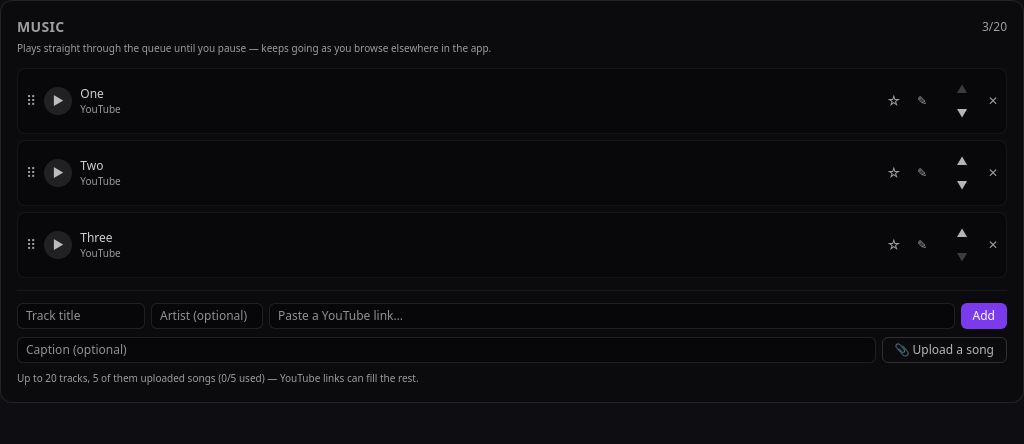
Test: MusicPlayer: rearranging the playlist › goes back to the old order and says so if the order can't be saved
expect the text "Two" is shown: met, box [80, 156, 103, 174]
Click the button named "Move One down".
click(962, 113)  # box [944, 101, 980, 125]
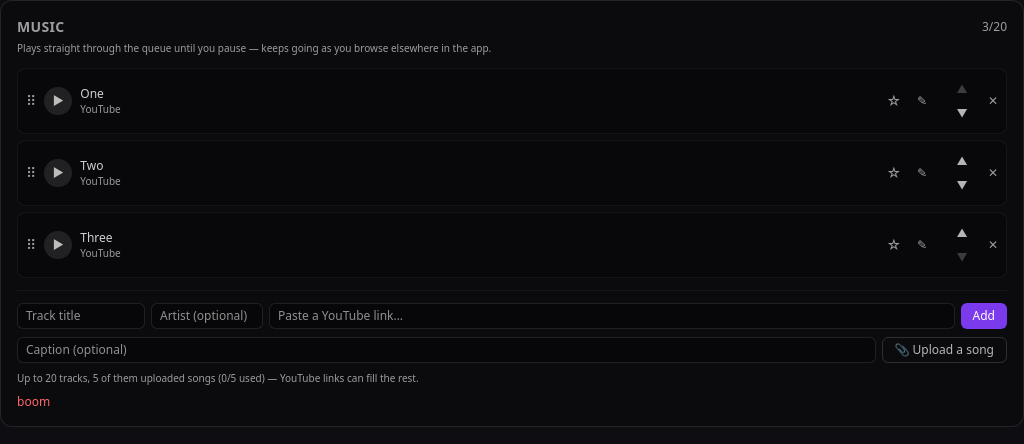
expect the text "boom" is shown: met, box [17, 393, 50, 410]
